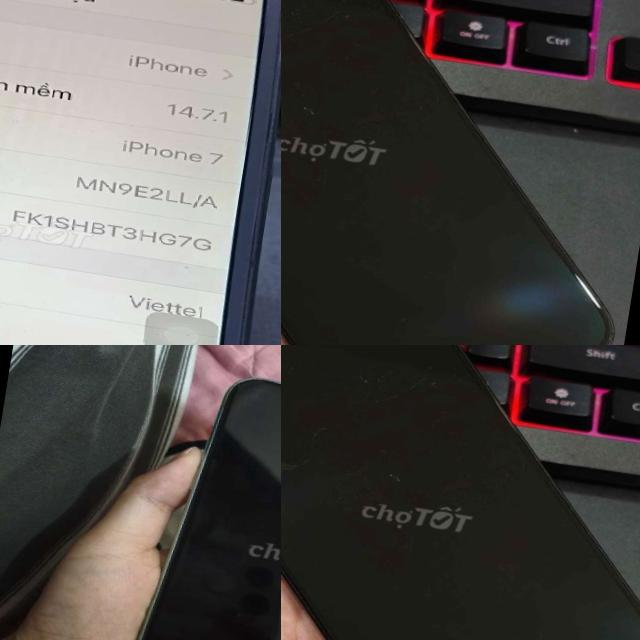scratch: (325, 345, 477, 432), (281, 381, 351, 503), (281, 0, 391, 65), (287, 92, 347, 142), (373, 460, 433, 510)
